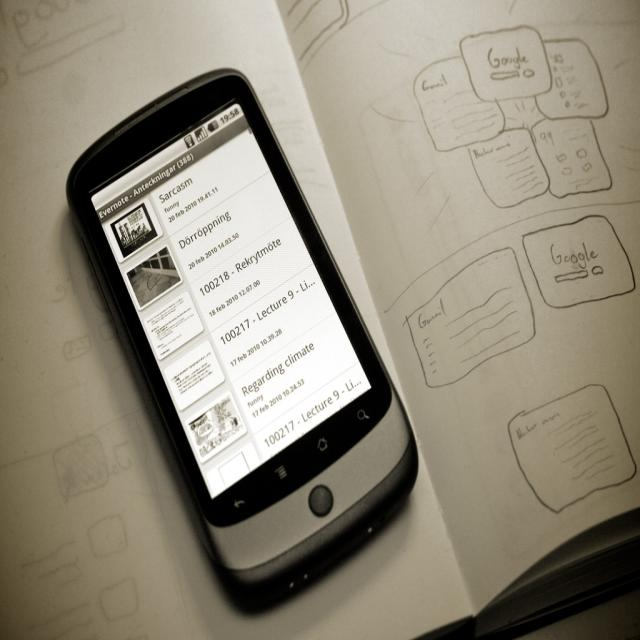Mobile-phone: (70, 68, 428, 612)
